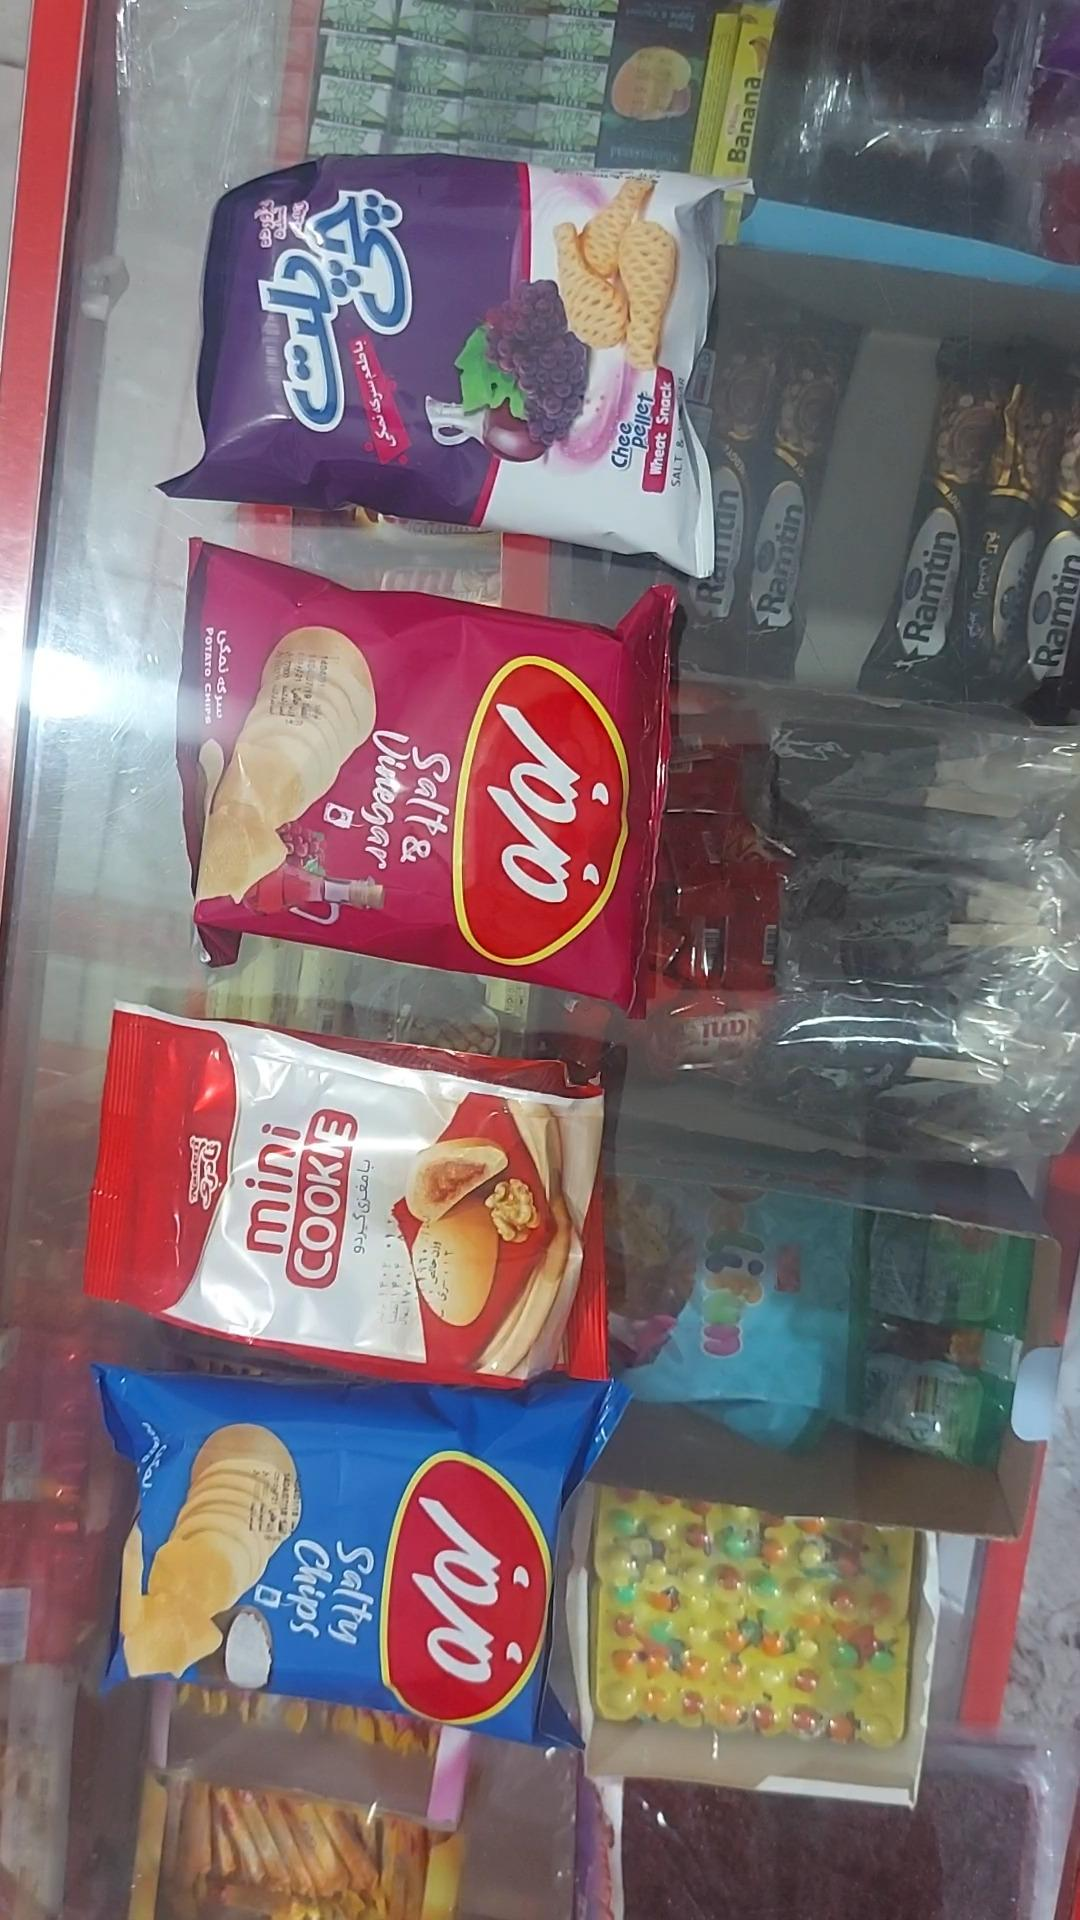Chee pellet vinegar: (156, 154, 727, 579)
Maz Maz salty chips: (92, 1365, 633, 1749)
Maz Maz vinegar chips: (174, 539, 679, 1011)
Naderi mini cookie: (83, 1004, 609, 1390)
